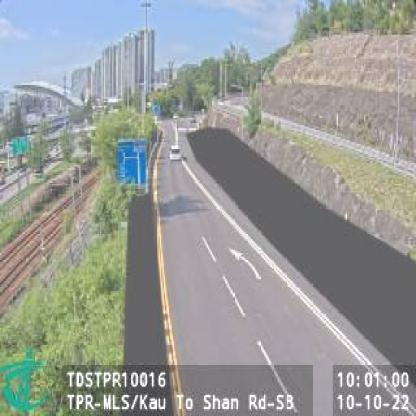Car: (169, 144, 180, 161)
